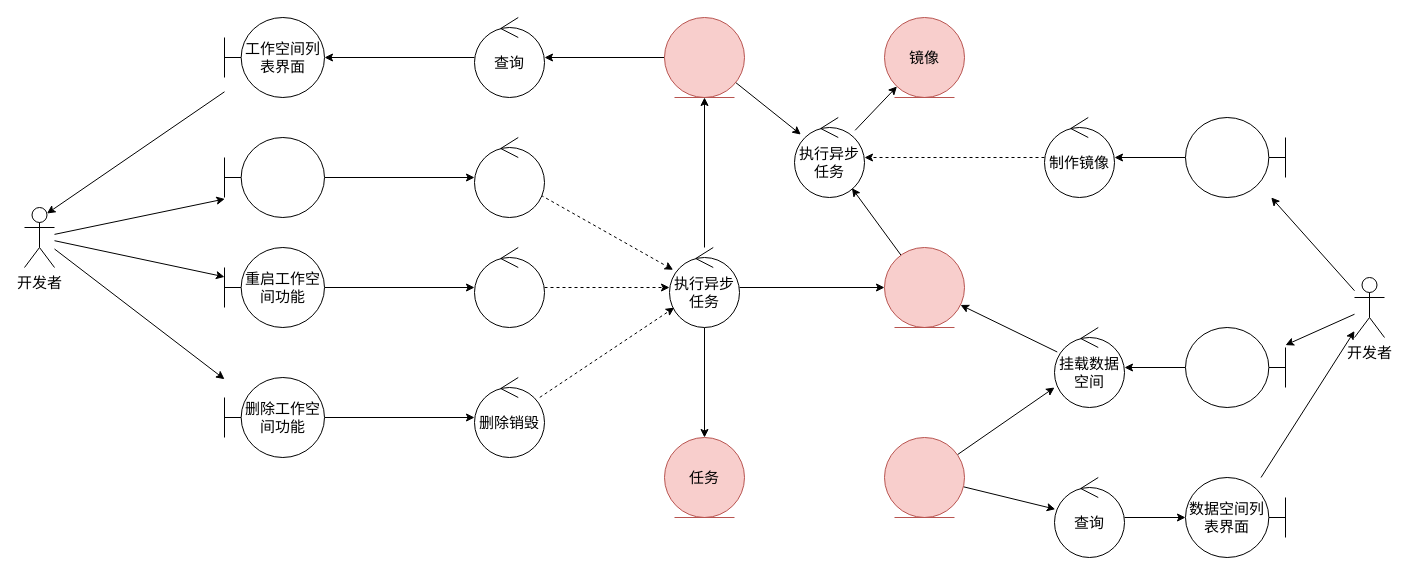
The diagram is 1409 pixels wide and 575 high, and some of its shapes have lost their labels. Here are the shapes that lost their labels. From the top down, the box of each, then its label:
(664, 16, 744, 98): 工作空间
(224, 136, 324, 218): 停止工作空间功能
(474, 136, 544, 218): 停止
(1184, 116, 1286, 198): 制作镜像功能
(474, 246, 544, 328): 重启
(884, 246, 964, 328): 运行容器
(1184, 326, 1286, 408): 挂载数据空间功能
(884, 436, 964, 518): 数据空间
